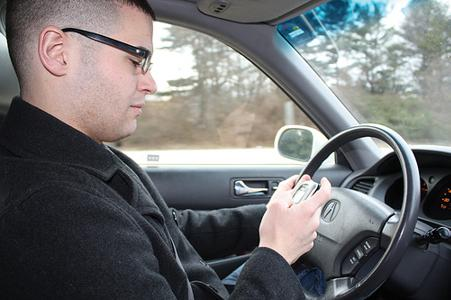person: (2, 3, 333, 300)
